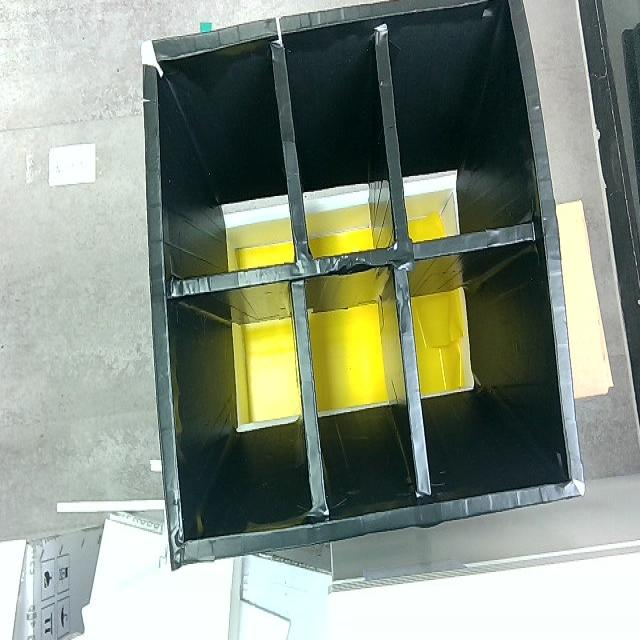box: (135, 2, 590, 576)
